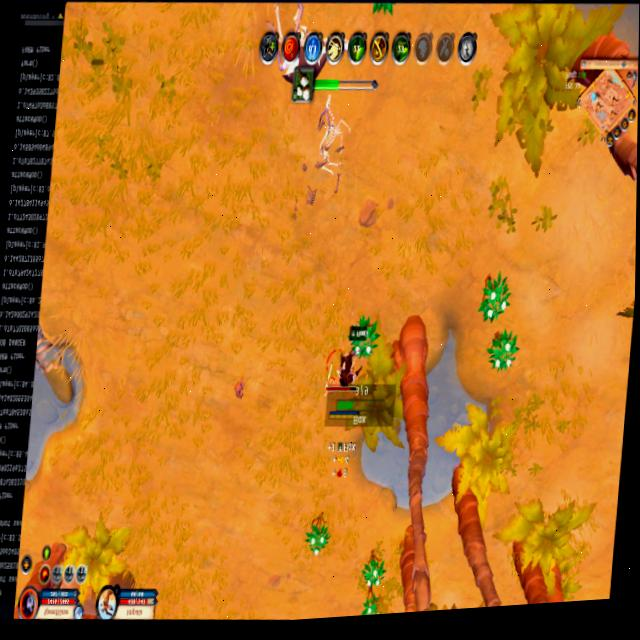hide: (478, 269, 512, 327), (487, 325, 519, 376), (348, 311, 379, 363), (304, 516, 329, 559), (360, 553, 385, 592), (360, 591, 380, 615)
ore: (321, 350, 358, 399)
red: (328, 338, 372, 423)
